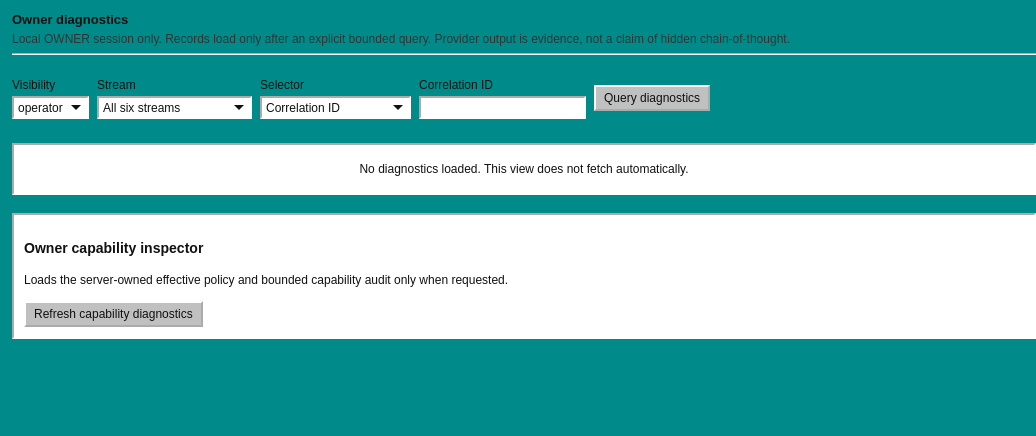
Test: owner diagnostic dashboard › fails closed without echoing an authorization response
Step 1. Click the button "Query diagnostics" → [652, 98], box [594,85,710,111]
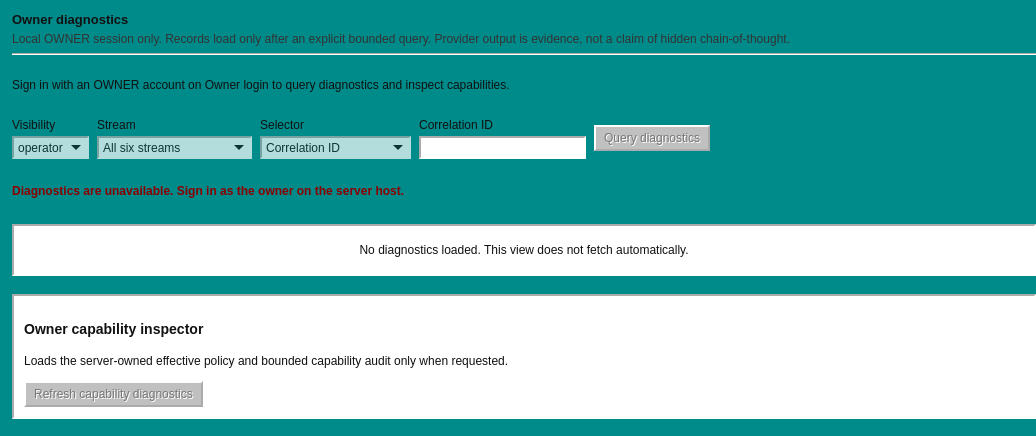
Expected: the message "Diagnostics are unavailable. Sign in as the owner on the server host." is shown, [12,184,404,198]
Expected: the button "Query diagnostics" is disabled, [594,125,710,151]
Expected: the button "Refresh capability diagnostics" is disabled, [24,381,203,407]
